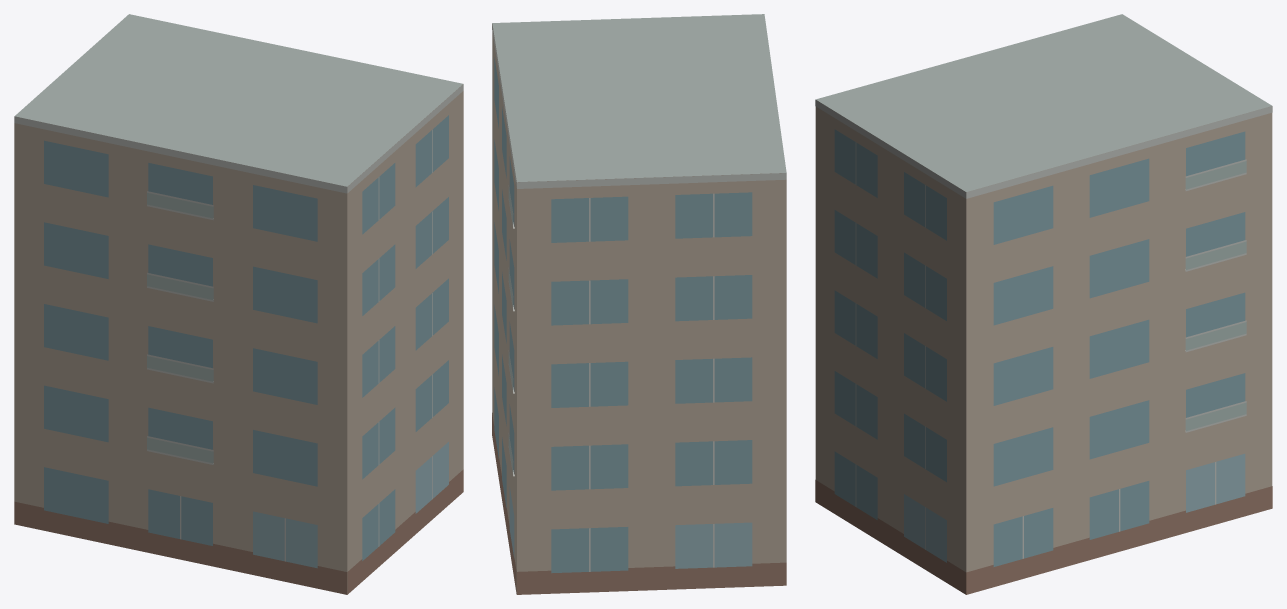
File: survey-upis-32851144.glb
3 views of the same model, side by side, from view 1: azimuth 30°, elevation 25°; view 2: azimuth 150°, elevation 25°; view 3: azimuth 270°, elevation 25° (orthographic). The views are drawn at different scales.
Visible parts, largest first — view 1: survey-upis-32851144.tmp; view 2: survey-upis-32851144.tmp; view 3: survey-upis-32851144.tmp.
Boxes of the visible parts, x1,y1,x2,y2 form: survey-upis-32851144.tmp: (14,14,463,594); survey-upis-32851144.tmp: (492,14,786,594); survey-upis-32851144.tmp: (815,14,1272,594).
Bounding box in the file's own units: 13.86 × 14.6 × 15.03.
